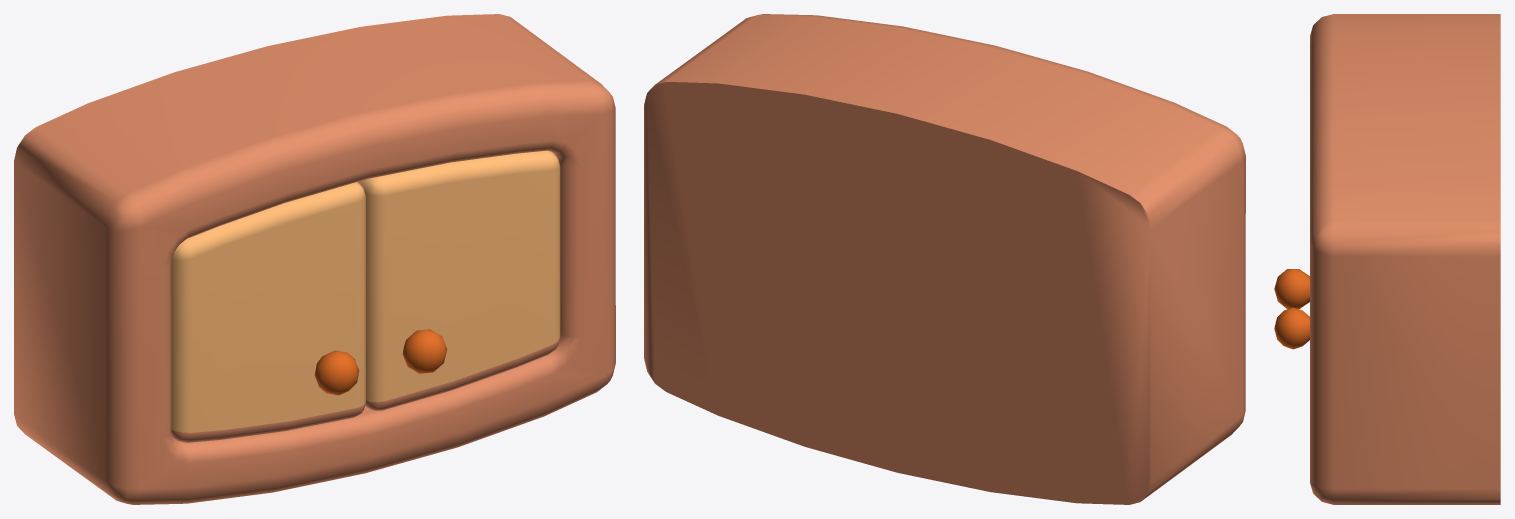
File: armario_parede_2portas_campestre_pacote.glb
3 views of the same model, side by side, from view 1: azimuth 30°, elevation 25°; view 2: azimuth 150°, elevation 25°; view 3: azimuth 270°, elevation 25° (orthographic). The views are drawn at different scales.
Visible parts, largest first — view 1: armario_parede_2portas_campestre_pacote, porta_2, porta_1; view 2: armario_parede_2portas_campestre_pacote; view 3: armario_parede_2portas_campestre_pacote, porta_2, porta_1.
Boxes of the visible parts, x1,y1,x2,y2 form: armario_parede_2portas_campestre_pacote: [14, 14, 615, 504]; porta_2: [361, 150, 560, 410]; porta_1: [171, 182, 365, 442]; armario_parede_2portas_campestre_pacote: [644, 14, 1245, 504]; armario_parede_2portas_campestre_pacote: [1310, 14, 1500, 504]; porta_2: [1274, 307, 1309, 349]; porta_1: [1274, 269, 1309, 309].
Bounding box in the file's own units: 0.9 × 0.6085 × 0.3799.
Materials: 1 (1 with a texture image).
